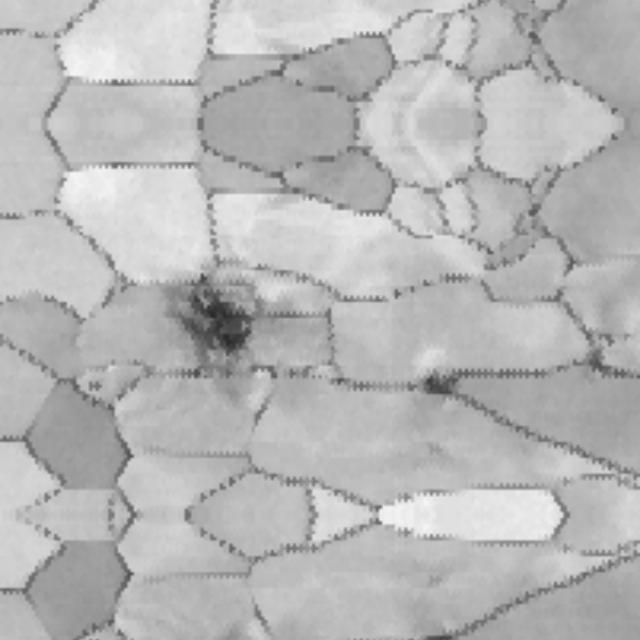good_void: (178, 271, 256, 379), (418, 361, 469, 400), (86, 378, 103, 394)
